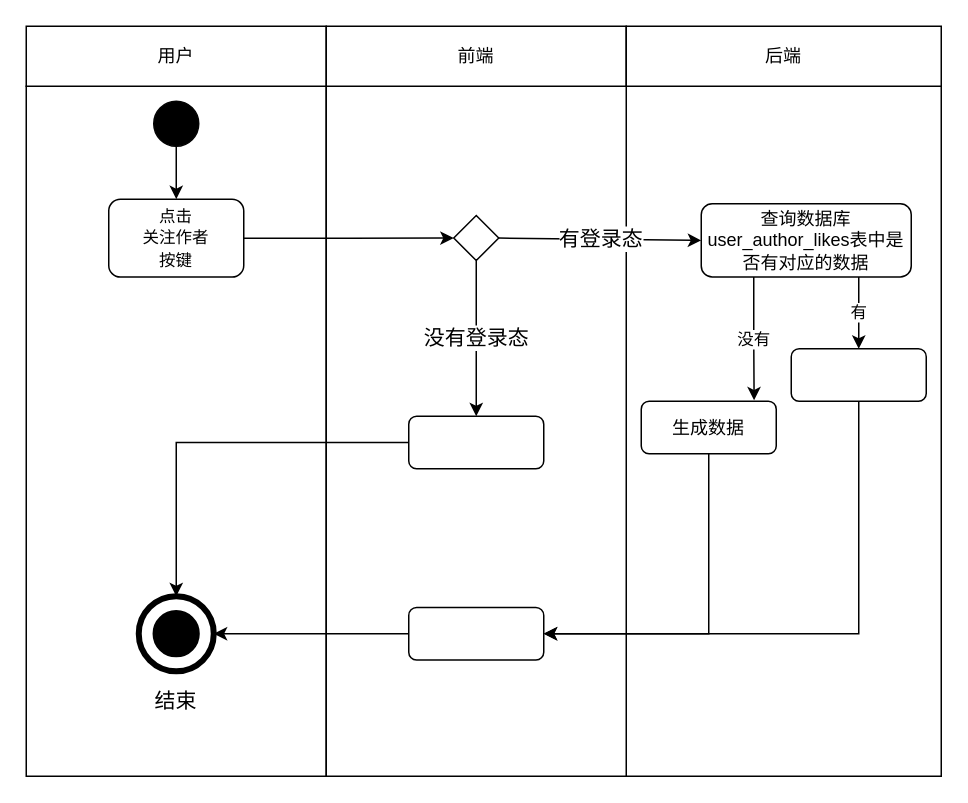
Image size: 968x803. Some labels were removed from this diagram. Each missing label, with the centre of its shape:
"取反更新" belongs at point (858, 374).
"提示登录" belongs at point (475, 442).
"更新状态" belongs at point (475, 633).
